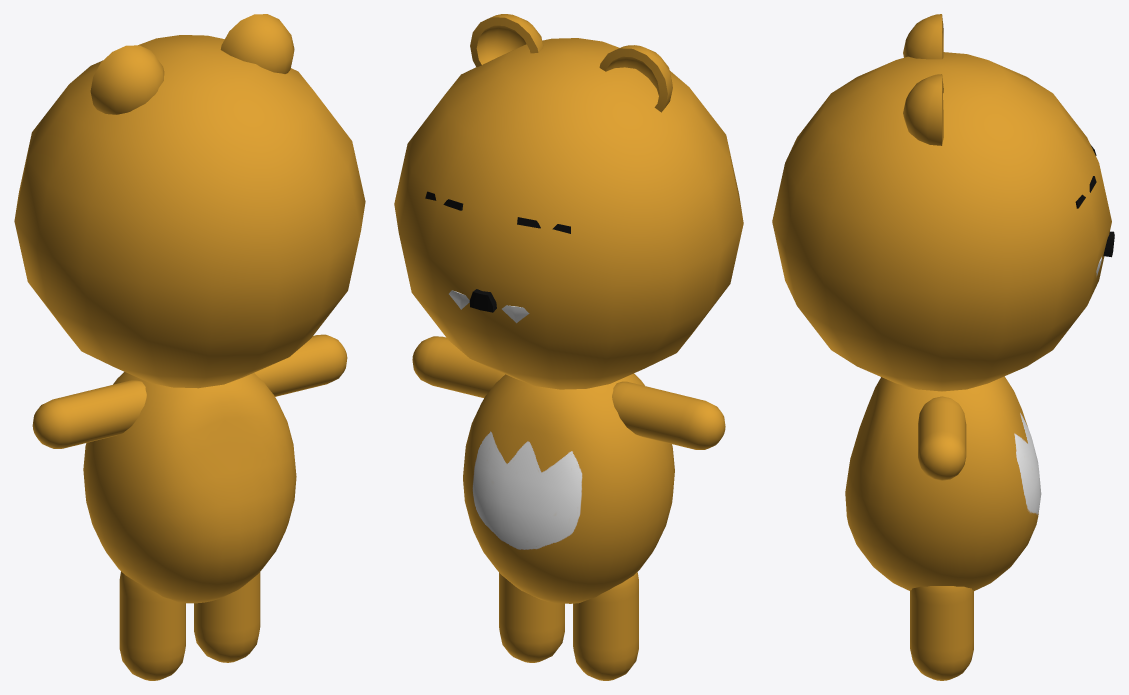
The model's file is lion.glb.
3 views of the same model, side by side, from view 1: azimuth 30°, elevation 25°; view 2: azimuth 150°, elevation 25°; view 3: azimuth 270°, elevation 25° (orthographic). The views are drawn at different scales.
Visible parts, largest first — view 1: legs; view 2: legs; view 3: legs.
Boxes of the visible parts, <box> form: legs: <box>14,14,365,680</box>; legs: <box>394,14,743,680</box>; legs: <box>772,14,1114,680</box>.
Size of the model in its own units: 2.01 by 3.98 by 2.02.
Materials: 4 (1 with a texture image).
